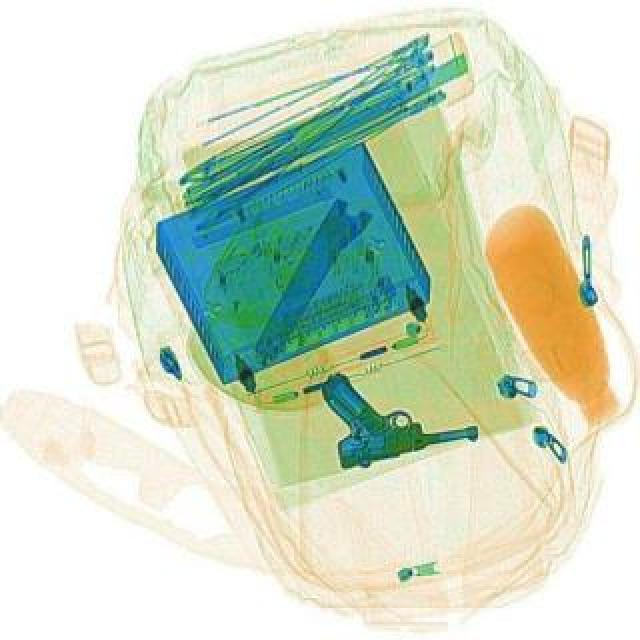gun: (314, 348, 482, 470)
